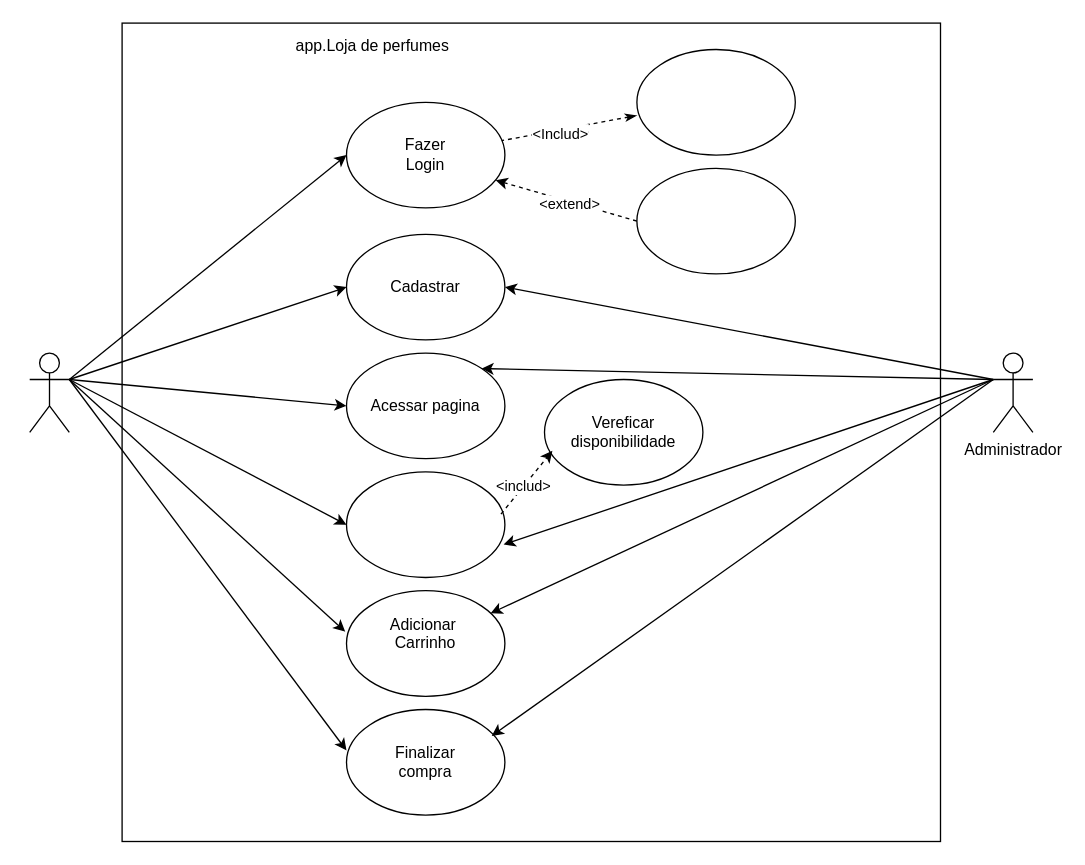
Some shapes in this 1085 by 865 pixel diagram are drawn without their labels. Each missing label, with the centre of its shape:
Exibir erro de Login: point 715,220
Listar produtos: point 425,524
Usuário: point 48,392
vereficar senha: point 715,101
